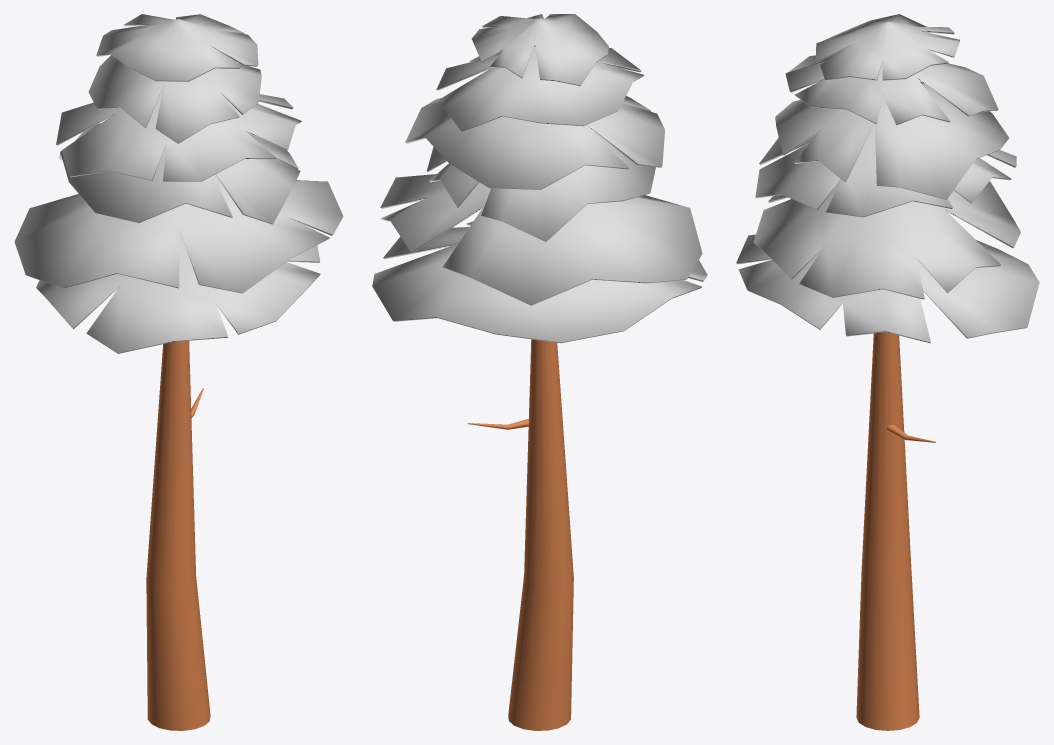
Rendered from Pine.002.fbx.
The picture shows the model from 3 angles, left to right: view 1: azimuth 30°, elevation 25°; view 2: azimuth 150°, elevation 25°; view 3: azimuth 270°, elevation 25°; orthographic projection.
Visible parts, largest first — view 1: Big Tree; view 2: Big Tree; view 3: Big Tree.
Part boxes in pixels (x1=…): Big Tree: x1=14, y1=14, x2=343, y2=730; Big Tree: x1=372, y1=14, x2=707, y2=730; Big Tree: x1=736, y1=14, x2=1039, y2=730.
Bounding box in the file's own units: 459 × 1032 × 408.
